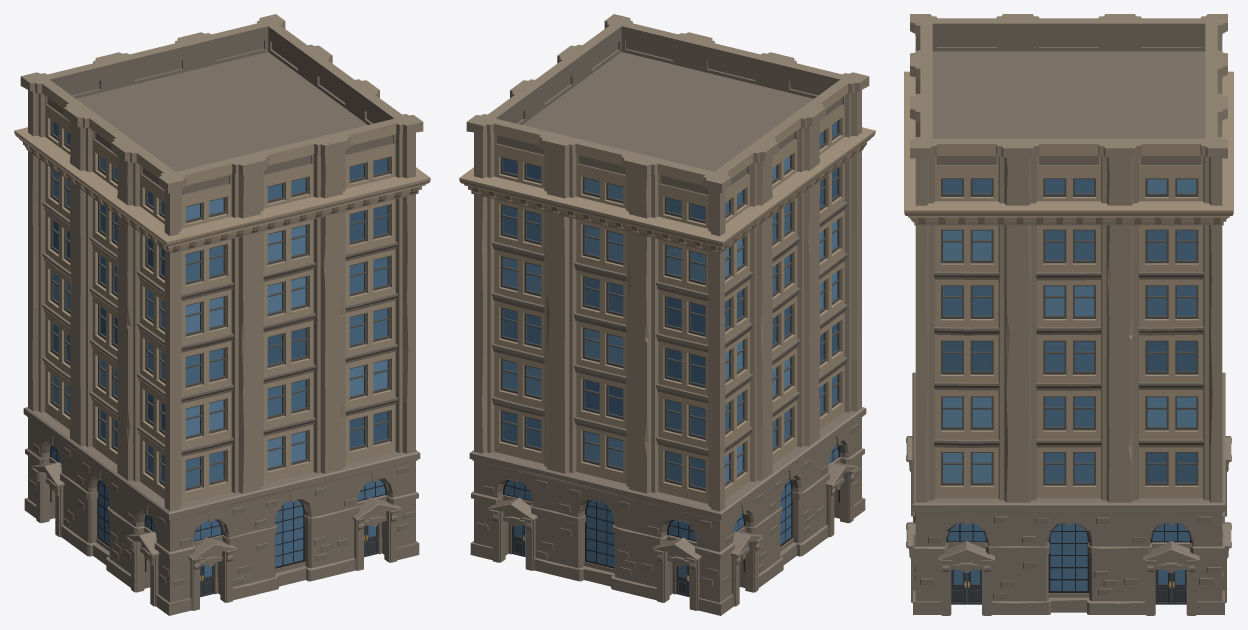
File: sc-office-c.glb
3 renders of one model, left to right at view 1: azimuth 30°, elevation 25°; view 2: azimuth 150°, elevation 25°; view 3: azimuth 270°, elevation 25°, orthographic. The views are drawn at different scales.
Visible parts, largest first — view 1: SM_Bld_OfficeOld_Large_01; view 2: SM_Bld_OfficeOld_Large_01; view 3: SM_Bld_OfficeOld_Large_01.
Boxes of the visible parts, box(x1,y1,x2,y2) form: SM_Bld_OfficeOld_Large_01: box(14, 14, 430, 615); SM_Bld_OfficeOld_Large_01: box(459, 14, 875, 615); SM_Bld_OfficeOld_Large_01: box(904, 14, 1233, 615).
Size of the model in its own units: 22.93 by 36 by 22.99.
Materials: 1 (1 with a texture image).
